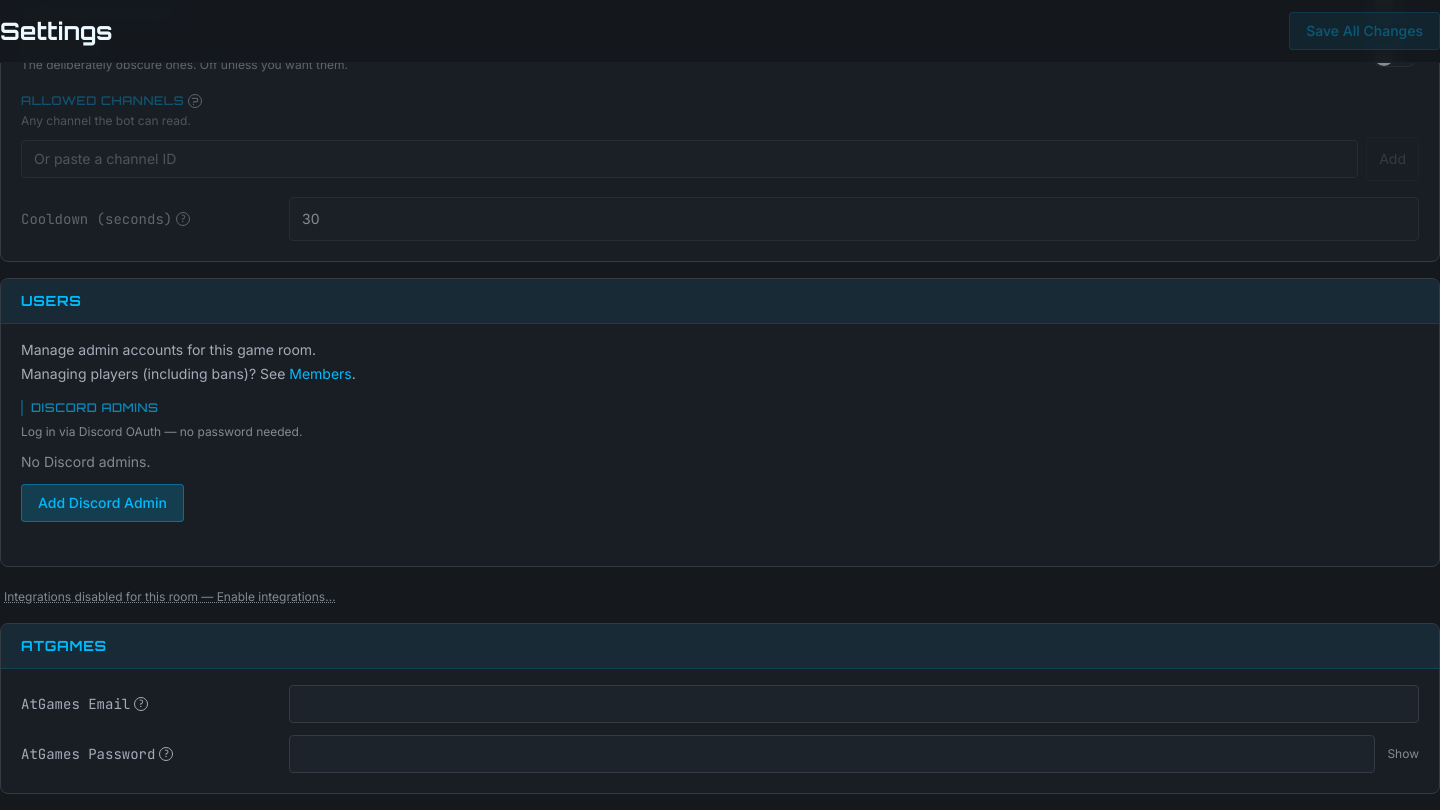
Test: Settings page — ROOM_LISTED, JOIN_POLICY, AUTO_APPROVE_GUILD_MEMBERS, iScored posture › iScored posture (ISCORED_ENABLED default-off for new rooms + credential masking) › hides the credential card behind a reveal affordance when ISCORED_ENABLED=false (new-room default since v2.81.0)
This screenshot has width=1440, height=810.
(page scrolled)
Expected: the heading "Settings" is shown, [0, 15, 112, 47]
Expected: the text "iScored Username" is not shown
Click the button "Integrations disabled for this room — Enable integrations…": (170, 597) [4, 589, 336, 605]
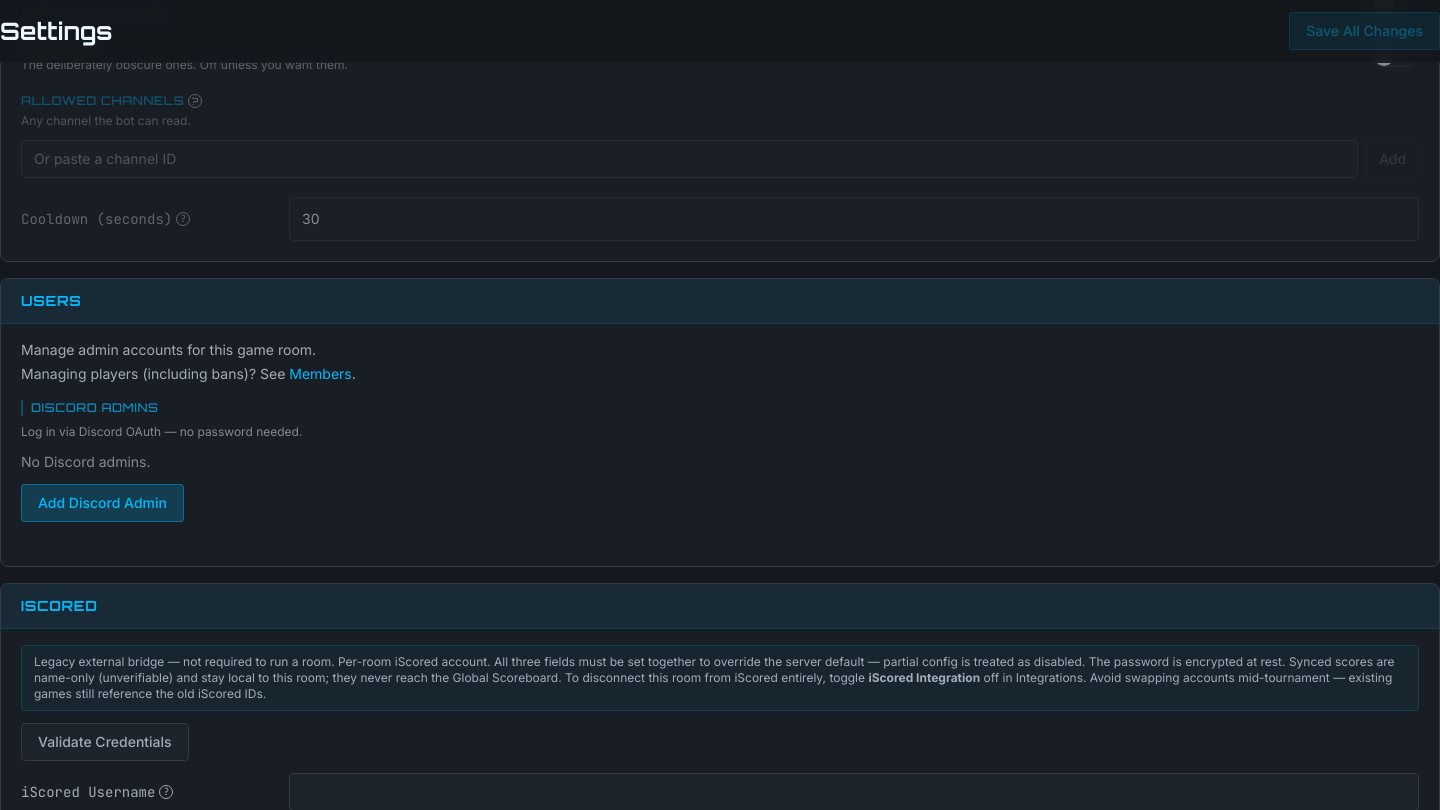
Expected: the text "iScored Username" is shown, [21, 783, 155, 801]
